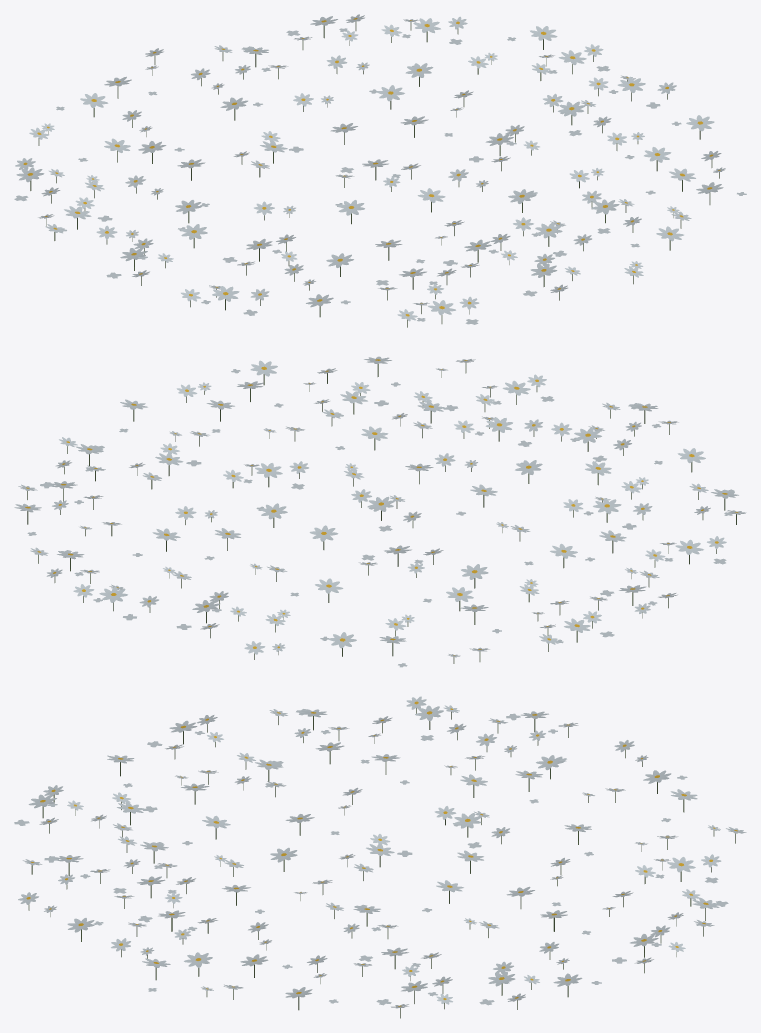
File: P_Fjallsippa_04_LD.fbx
3 renders of one model, top to bottom at view 1: azimuth 30°, elevation 25°; view 2: azimuth 150°, elevation 25°; view 3: azimuth 270°, elevation 25°, orthographic. The views are drawn at different scales.
Parts seen in each view (by area): view 1: P_Fjallsippa_04; view 2: P_Fjallsippa_04; view 3: P_Fjallsippa_04.
Part boxes in pixels (box(x1,y1,x2,y2)): P_Fjallsippa_04: box(14, 14, 746, 327); P_Fjallsippa_04: box(14, 356, 746, 667); P_Fjallsippa_04: box(14, 696, 746, 1018).
Bounding box in the file's own units: 788 × 29.47 × 785.
Materials: 1 (1 with a texture image).
